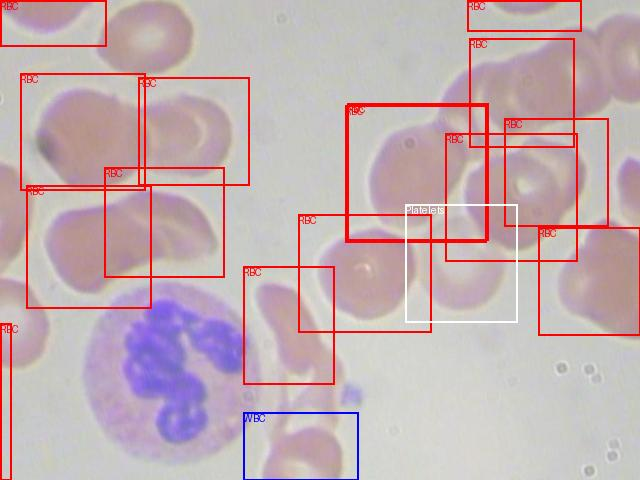Platelets: (405, 204, 517, 322)
RBC: (345, 105, 486, 242), (347, 103, 488, 240), (445, 133, 577, 261), (298, 214, 431, 332), (26, 185, 151, 308), (20, 73, 145, 190), (104, 167, 224, 277), (138, 77, 249, 185), (469, 38, 574, 147), (504, 118, 608, 226), (538, 227, 640, 335), (243, 266, 334, 384), (0, 0, 106, 46), (467, 0, 581, 31), (0, 323, 11, 480)
WBC: (243, 412, 358, 480)
